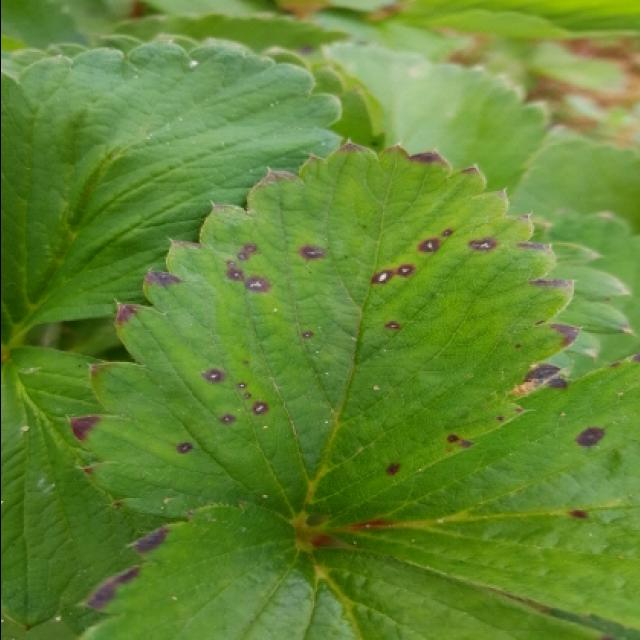Leaf Spot: (65, 138, 583, 531), (316, 351, 640, 634)
